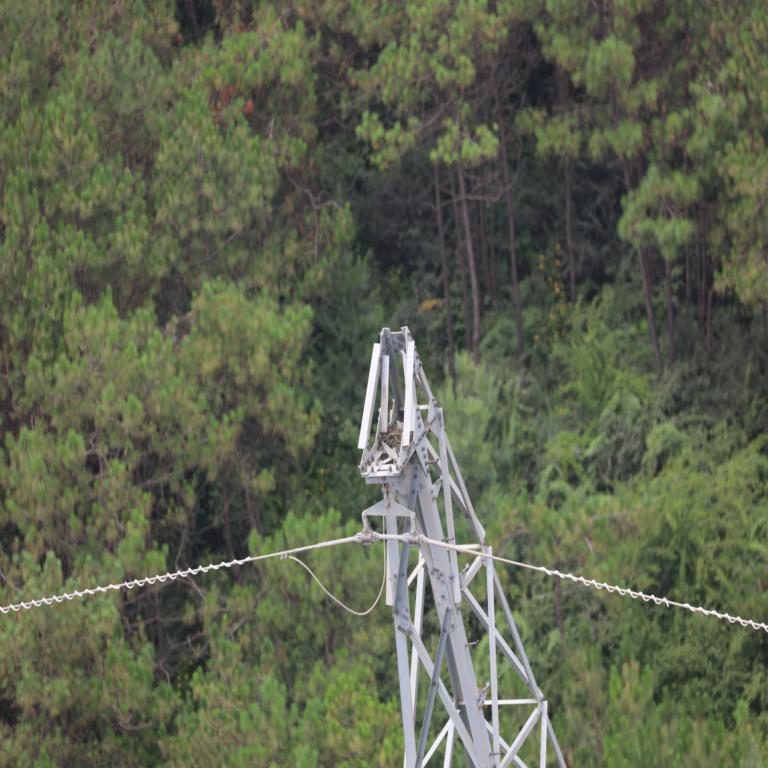nest: (383, 429, 401, 444)
